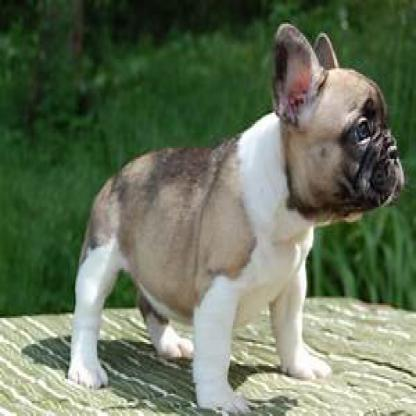dog: (68, 19, 406, 412)
